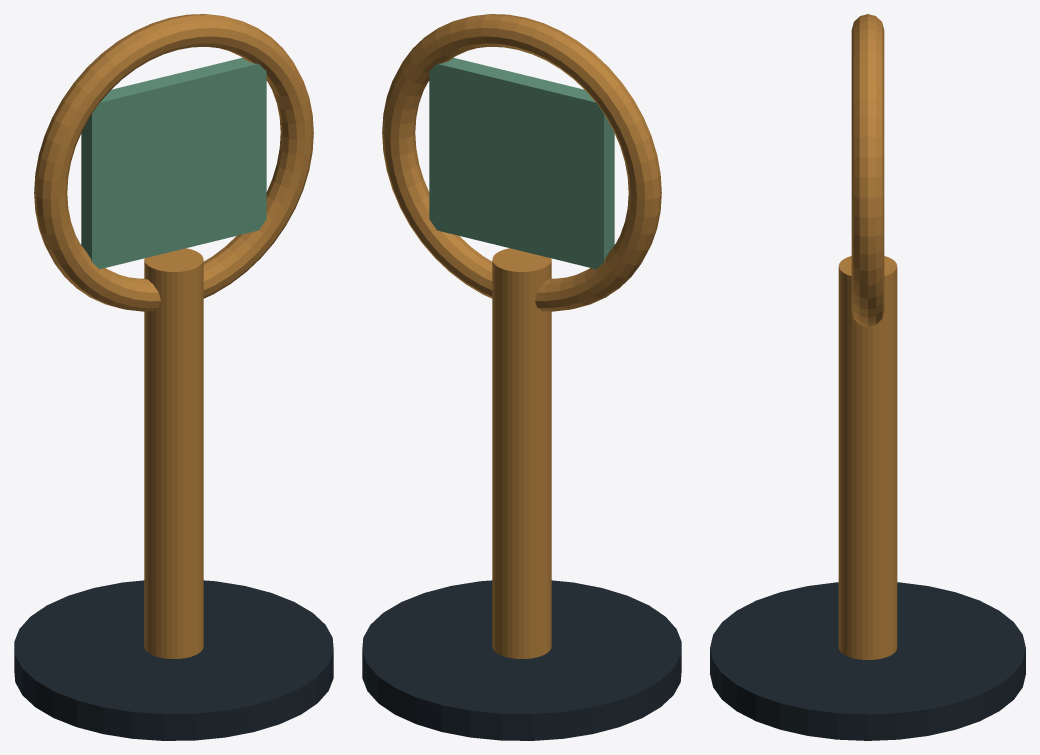
Rendered from wayfinding-sign.obj.
3 views of the same model, side by side, from view 1: azimuth 30°, elevation 25°; view 2: azimuth 150°, elevation 25°; view 3: azimuth 270°, elevation 25° (orthographic).
Bounding box in the file's own units: 0.54 × 1.22 × 0.54.
